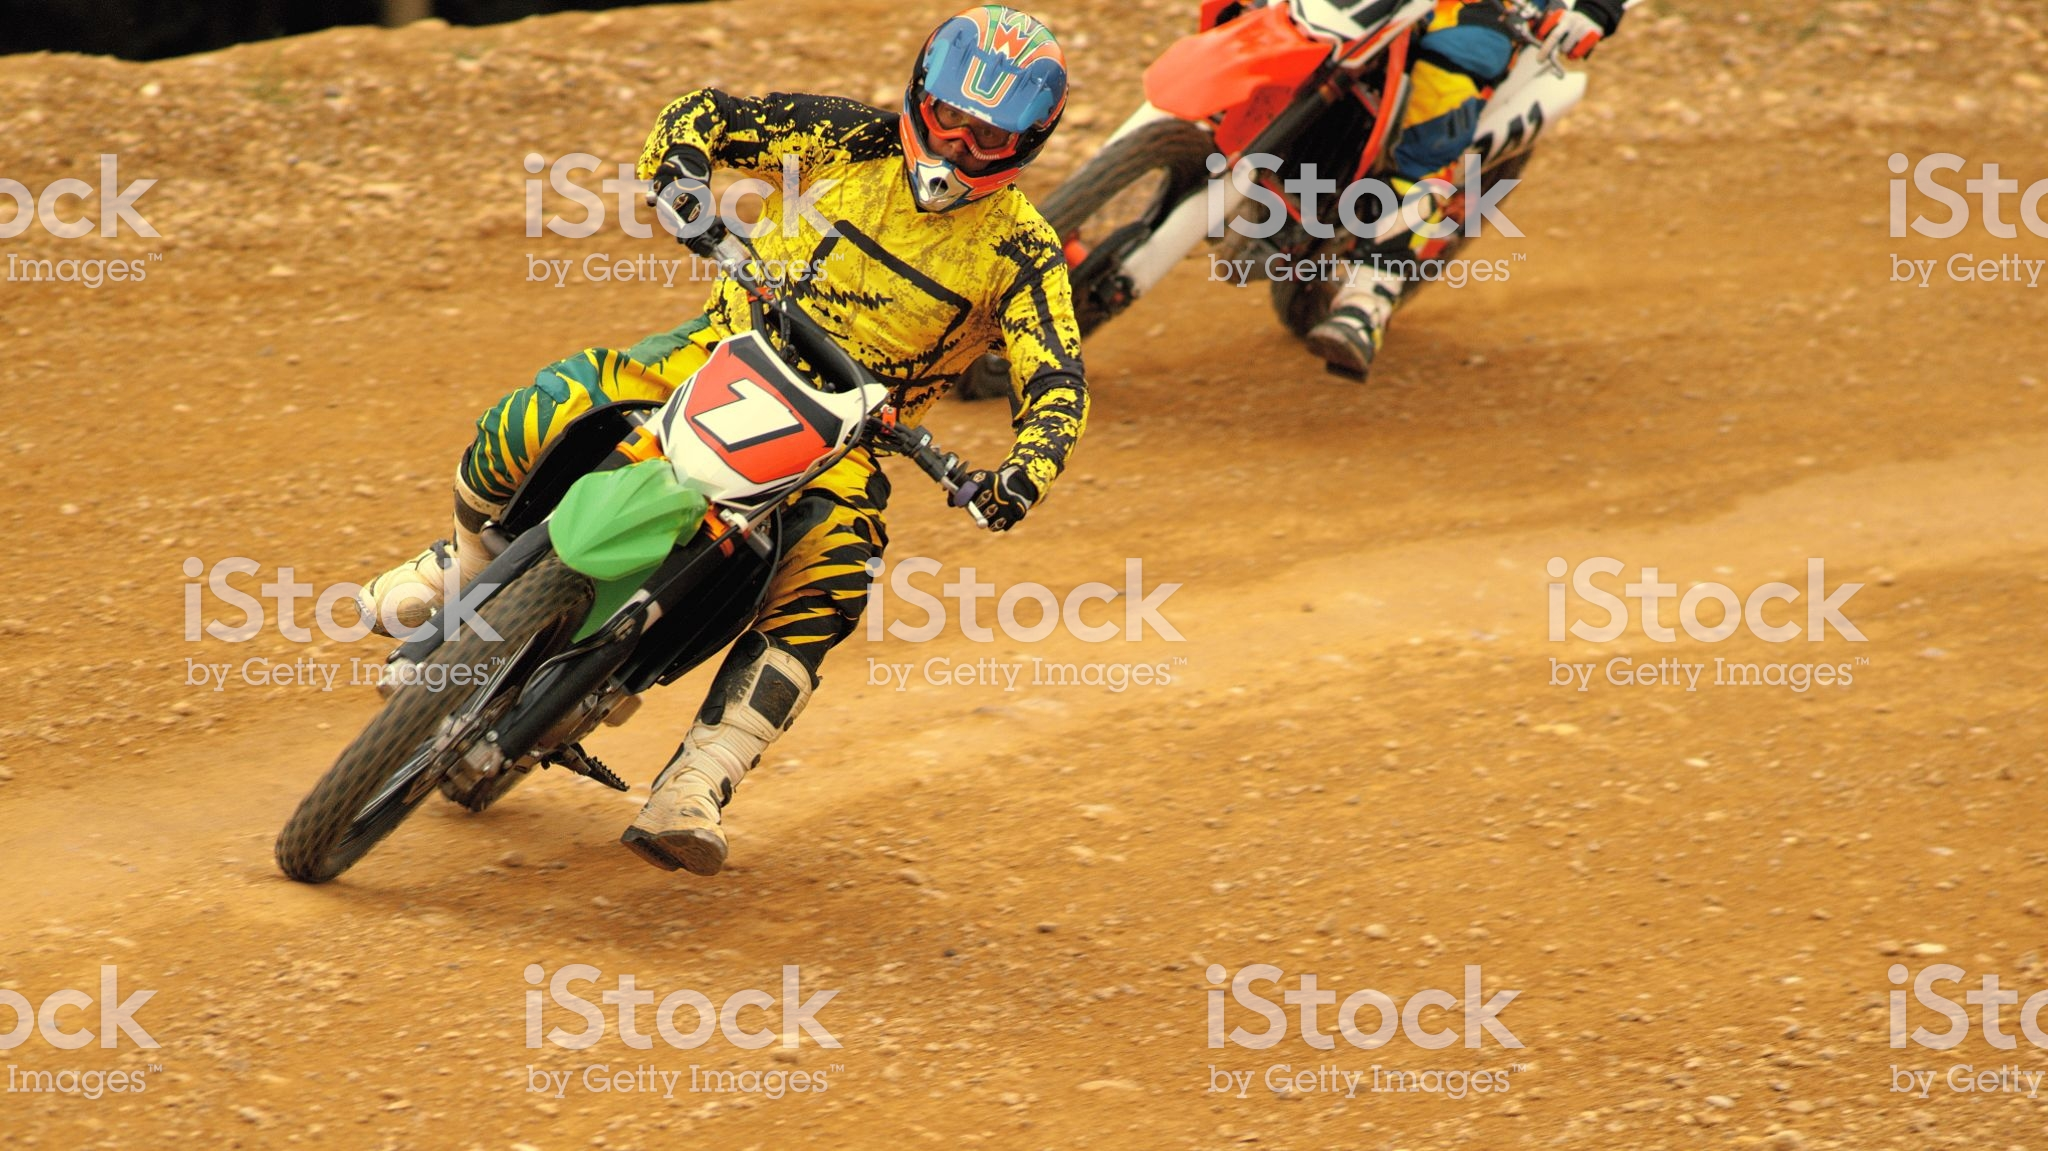helmet: (907, 20, 1075, 212)
